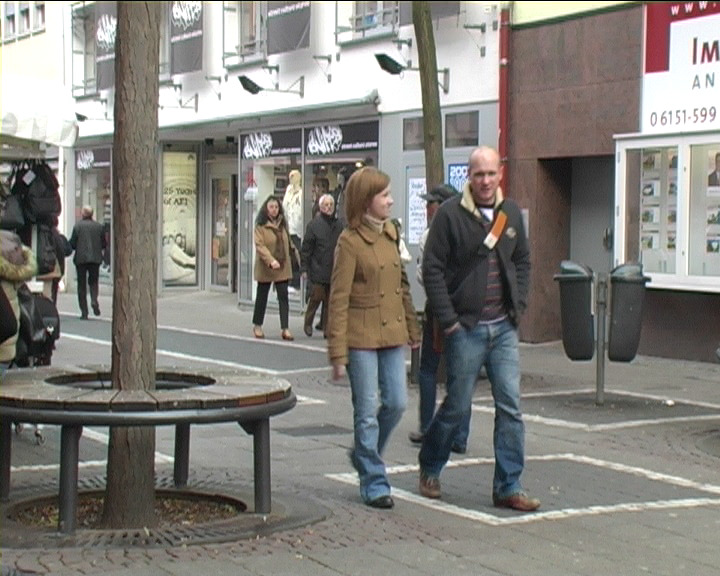deflection: (442, 146, 530, 240), (341, 172, 410, 261)
